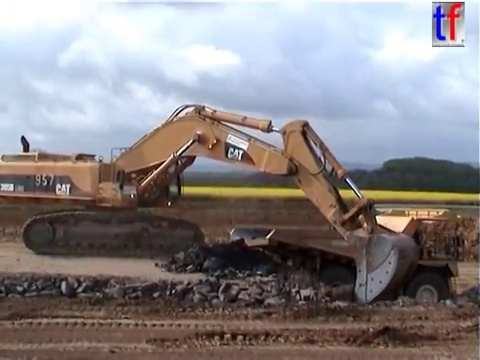excavator: (1, 99, 424, 312)
truck: (225, 204, 469, 324)
